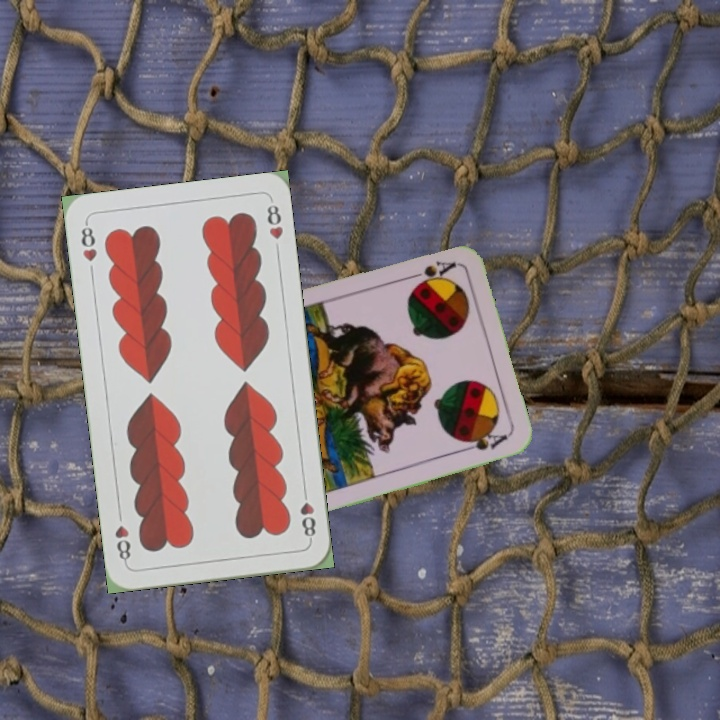H8: (296, 485, 319, 544), (77, 218, 100, 264)
SA: (400, 256, 458, 287)
